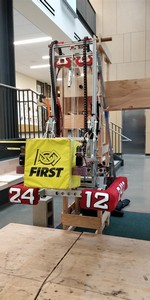cube: (25, 137, 84, 189)
